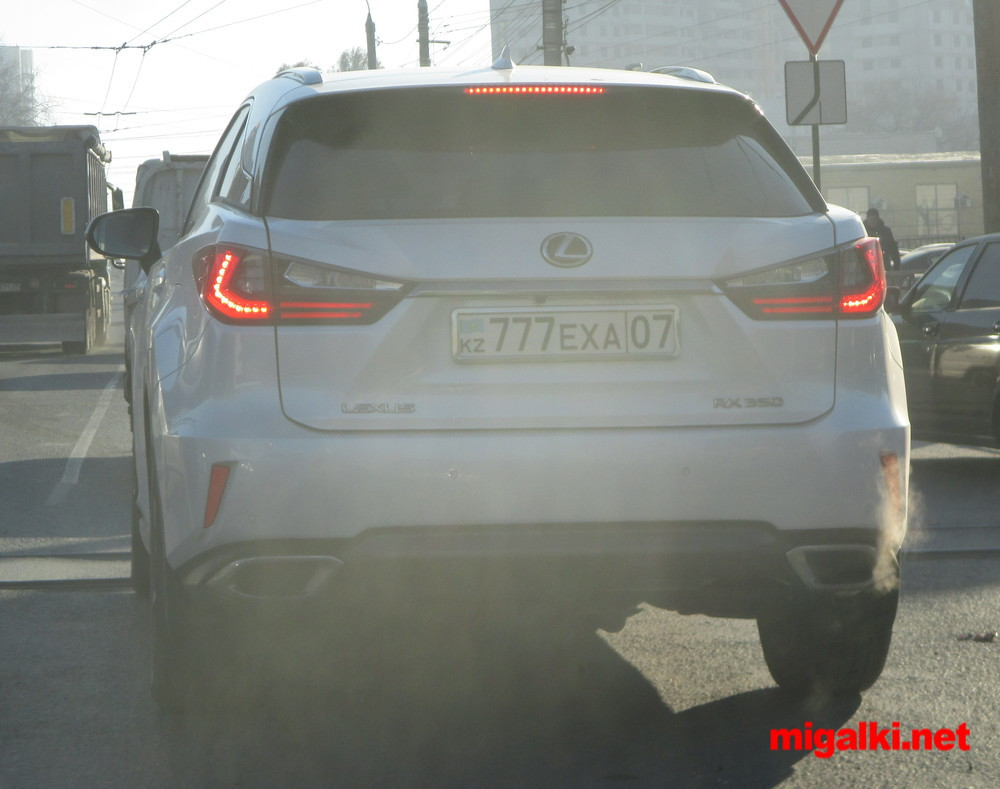license_plate: (452, 314, 680, 359)
